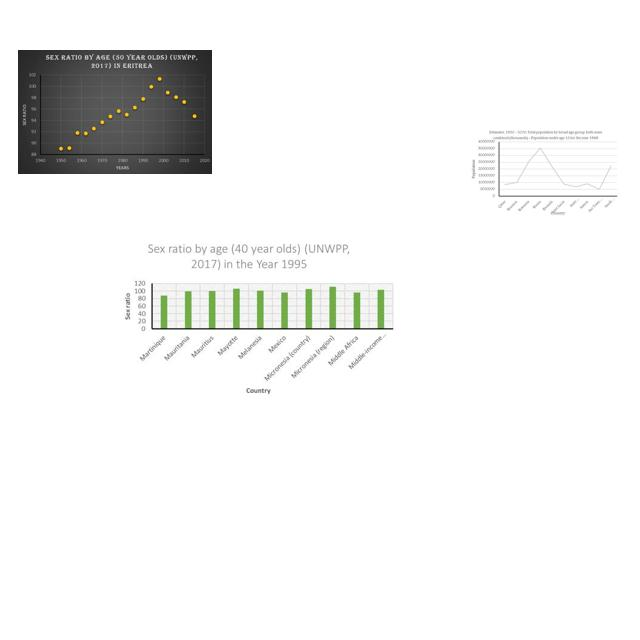Graph: (118, 239, 398, 399), (18, 50, 212, 174), (471, 128, 620, 216)
